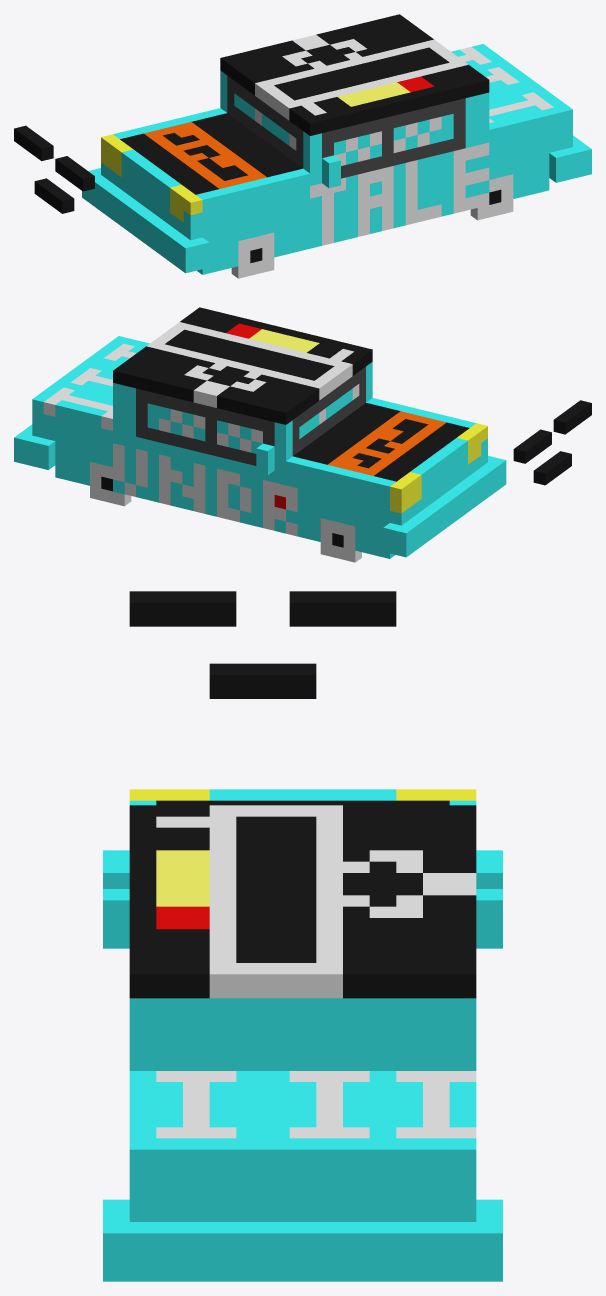
The model's file is car_10.glb.
3 renders of one model, top to bottom at view 1: azimuth 30°, elevation 25°; view 2: azimuth 150°, elevation 25°; view 3: azimuth 270°, elevation 25°, orthographic. The views are drawn at different scales.
Parts seen in each view (by area): view 1: ObjObject; view 2: ObjObject; view 3: ObjObject.
Boxes of the visible parts, box(x1,y1,x2,y2) form: ObjObject: box(14, 14, 591, 278); ObjObject: box(14, 307, 591, 562); ObjObject: box(103, 591, 502, 1281).
Size of the model in its own units: 4.2 by 1.1 by 1.5.
1 material, 1 textured.
